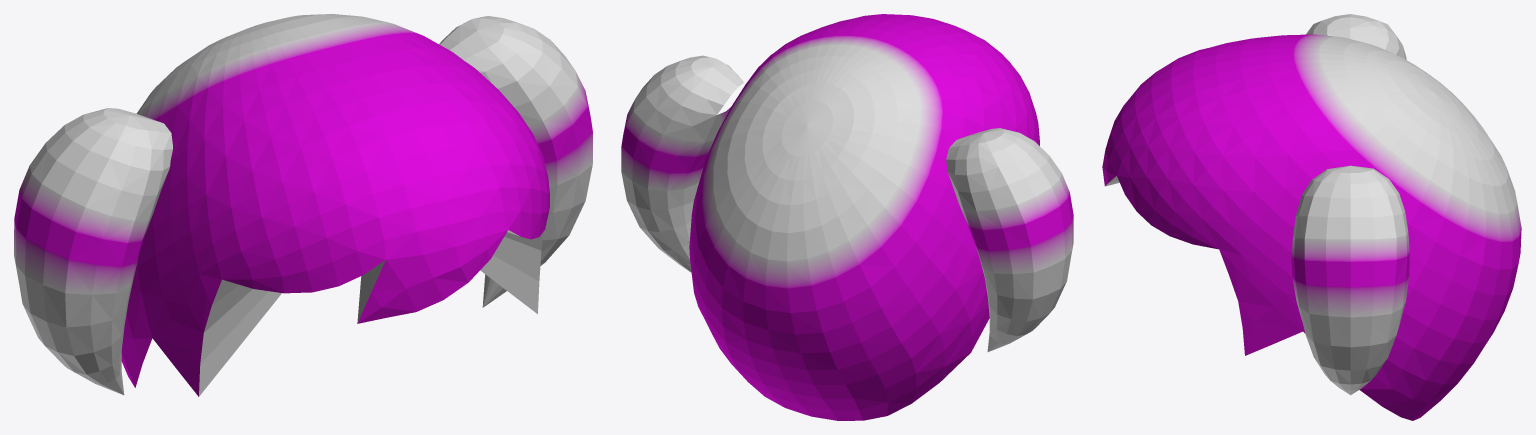
3 views of the same model, side by side, from view 1: azimuth 30°, elevation 25°; view 2: azimuth 150°, elevation 25°; view 3: azimuth 270°, elevation 25° (orthographic). The views are drawn at different scales.
Visible parts, largest first — view 1: shape; view 2: shape; view 3: shape.
Part boxes in pixels (bbox=[...]): shape: bbox=[14, 14, 592, 396]; shape: bbox=[621, 14, 1073, 420]; shape: bbox=[1102, 14, 1521, 420].
Size of the model in its own units: 81.26 by 59.18 by 65.04.
